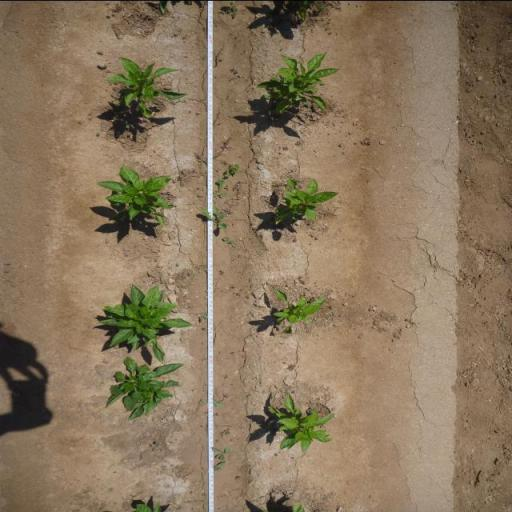plant: (94, 281, 193, 357), (258, 49, 343, 116), (102, 360, 188, 422), (96, 163, 176, 228), (106, 54, 187, 118), (266, 393, 338, 452), (270, 175, 342, 226), (270, 287, 328, 336)
weed: (200, 206, 228, 230), (198, 393, 227, 408), (218, 0, 240, 18), (212, 176, 228, 198), (212, 446, 230, 460), (224, 163, 241, 177), (221, 235, 238, 247), (213, 460, 228, 471), (148, 441, 162, 452), (218, 427, 232, 436), (196, 312, 207, 322), (314, 2, 326, 11), (296, 275, 306, 284), (286, 363, 297, 371), (201, 326, 208, 332), (306, 407, 312, 414), (198, 267, 204, 273), (222, 374, 230, 378)
